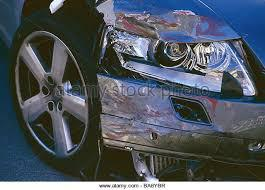Headlight-Damage: (88, 0, 254, 98)
front-bumper-dent: (104, 82, 244, 161)
